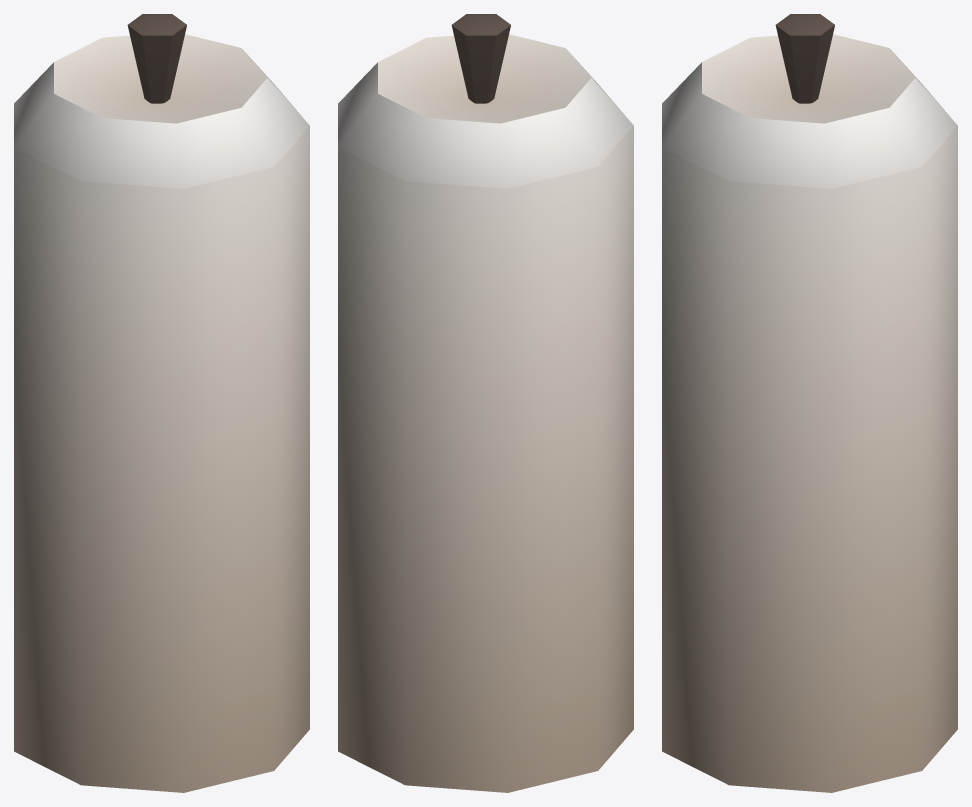
File: candle.gltf
3 views of the same model, side by side, from view 1: azimuth 30°, elevation 25°; view 2: azimuth 150°, elevation 25°; view 3: azimuth 270°, elevation 25° (orthographic).
Parts seen in each view (by area): view 1: candle; view 2: candle; view 3: candle.
Boxes of the visible parts, left/top/right/bottom form: candle: left=14, top=14, right=309, bottom=792; candle: left=338, top=14, right=633, bottom=792; candle: left=662, top=14, right=957, bottom=792.
Size of the model in its own units: 0.3344 by 0.873 by 0.3293.
Materials: 1 (1 with a texture image).
